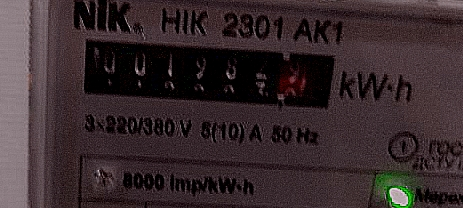0: (131, 48, 148, 77), (101, 45, 117, 74)
1: (163, 48, 175, 77)
2: (253, 51, 271, 80)
8: (223, 52, 239, 80)
9: (284, 57, 304, 85), (192, 51, 207, 80)
screen: (67, 25, 348, 121)
